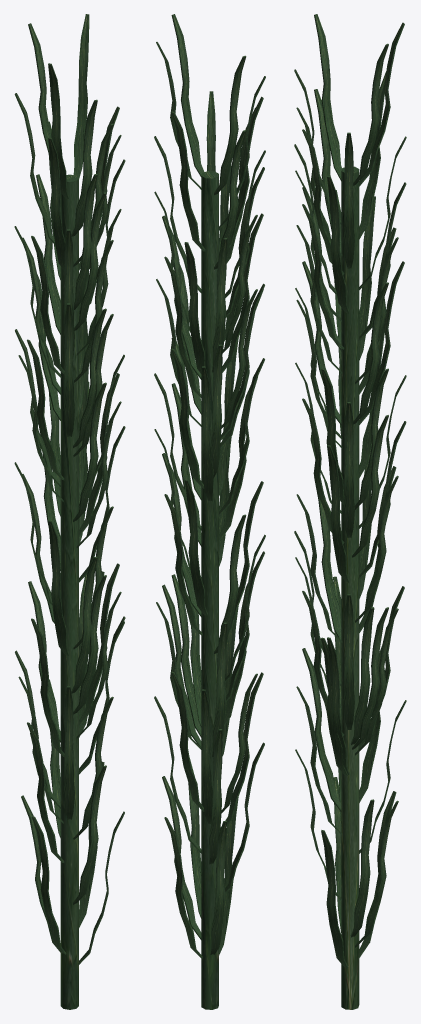
File: LargePlant.FBX
The picture shows the model from 3 angles, left to right: view 1: azimuth 90°, elevation 25°; view 2: azimuth 150°, elevation 25°; view 3: azimuth 330°, elevation 25°; orthographic projection.
Visible parts, largest first — view 1: LargePlant; view 2: LargePlant; view 3: LargePlant.
Part boxes in pixels (<box>): LargePlant: <box>14,14,125,1009</box>; LargePlant: <box>154,14,265,1009</box>; LargePlant: <box>294,14,406,1009</box>.
Size of the model in its own units: 14.41 by 138 by 14.36.
1 material, 1 textured.
